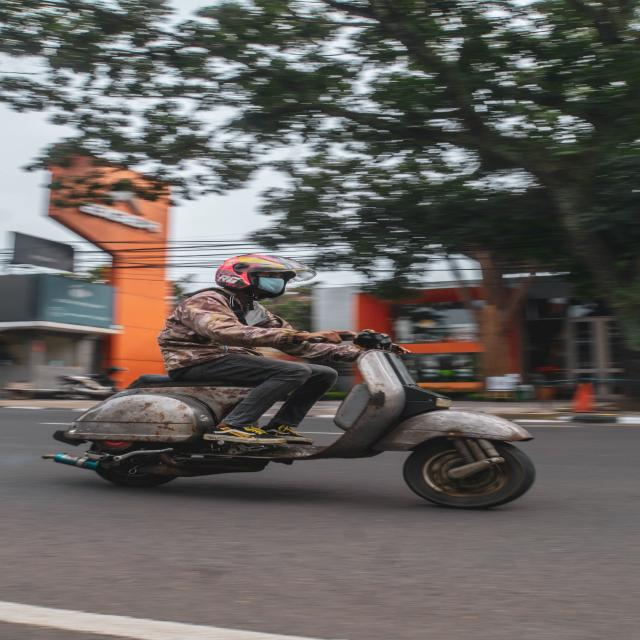With Helmet: (41, 239, 573, 516)
